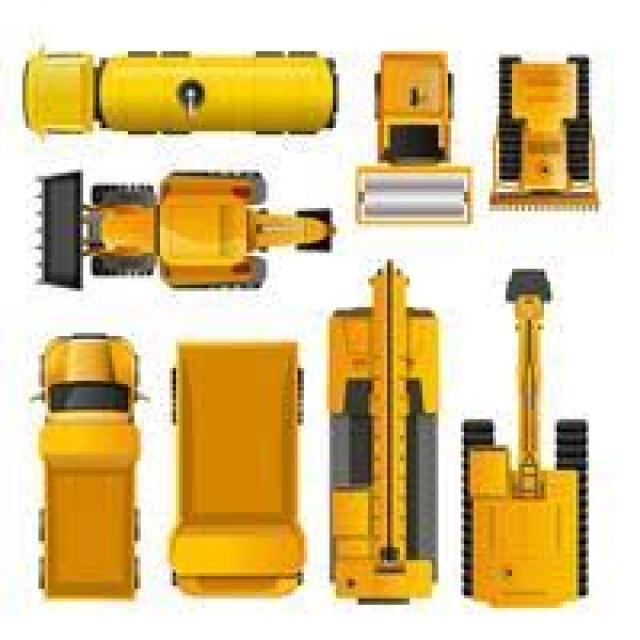truck: (168, 336, 311, 600), (33, 328, 145, 606)
